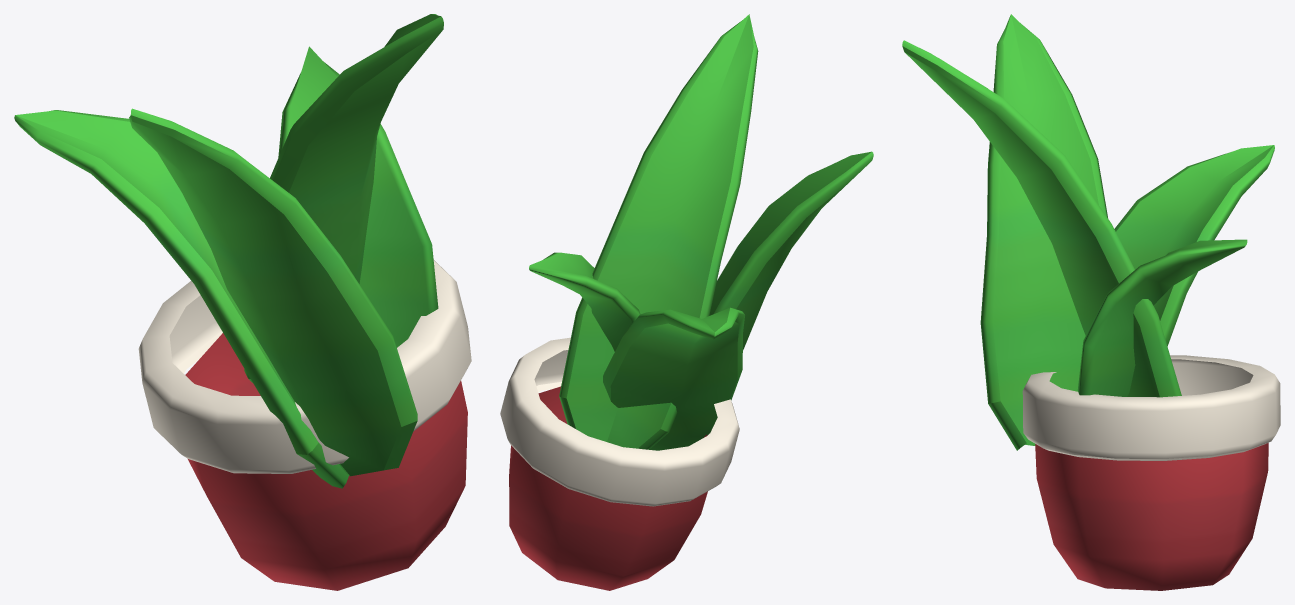
File: Plants (1).fbx
The picture shows the model from 3 angles, left to right: view 1: azimuth 30°, elevation 25°; view 2: azimuth 150°, elevation 25°; view 3: azimuth 270°, elevation 25°; orthographic projection. The views are drawn at different scales.
Visible parts, largest first — view 1: Plants (1), Pot_02_Leaf_10, Pot_02_Leaf_06, Pot_02_Leaf_09, Pot_02_Leaf_02; view 2: Pot_02_Leaf_09, Plants (1), Pot_02_Leaf_06, Pot_02_Leaf_10, Pot_02_Leaf_02; view 3: Plants (1), Pot_02_Leaf_10, Pot_02_Leaf_09, Pot_02_Leaf_06, Pot_02_Leaf_02.
Boxes of the visible parts, box(x1,y1,x2,y2) form: Plants (1): box(138, 260, 471, 590); Pot_02_Leaf_10: box(129, 108, 417, 476); Pot_02_Leaf_06: box(14, 110, 348, 488); Pot_02_Leaf_09: box(244, 14, 443, 382); Pot_02_Leaf_02: box(278, 46, 438, 347); Pot_02_Leaf_09: box(559, 14, 758, 449); Plants (1): box(500, 337, 739, 590); Pot_02_Leaf_06: box(603, 307, 744, 450); Pot_02_Leaf_10: box(709, 151, 873, 349); Pot_02_Leaf_02: box(529, 252, 640, 351); Plants (1): box(1022, 355, 1280, 590); Pot_02_Leaf_10: box(980, 14, 1107, 450); Pot_02_Leaf_09: box(902, 40, 1181, 397); Pot_02_Leaf_06: box(1114, 145, 1274, 346); Pot_02_Leaf_02: box(1077, 239, 1247, 396).
Bounding box in the file's own units: 69.24 × 109 × 71.06.
